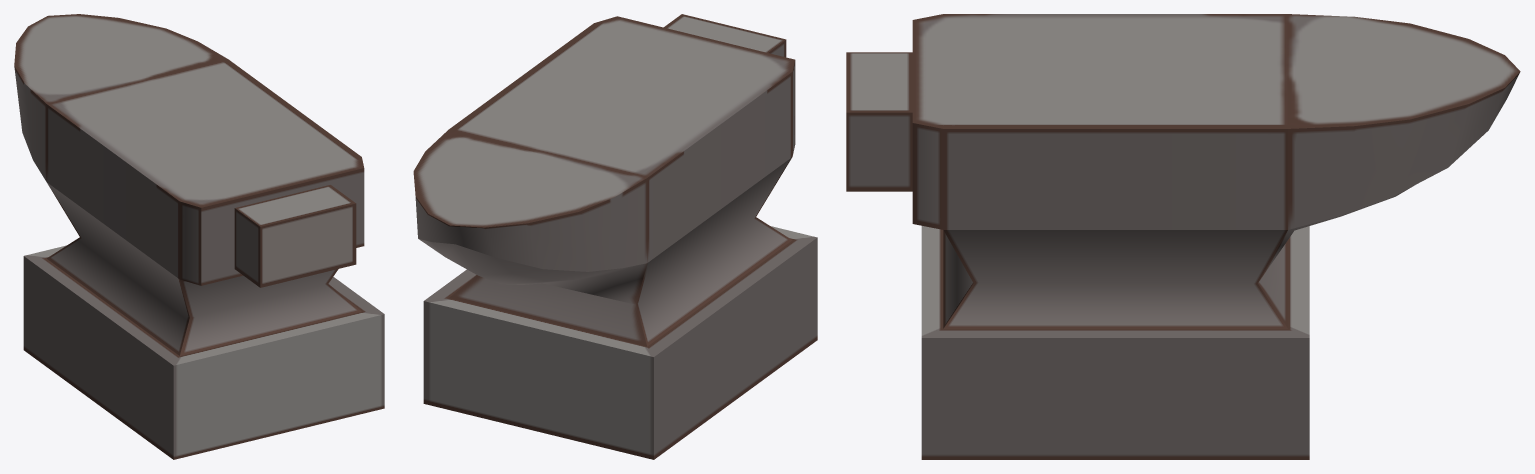
Rendered from Anvil.fbx.
The picture shows the model from 3 angles, left to right: view 1: azimuth 30°, elevation 25°; view 2: azimuth 150°, elevation 25°; view 3: azimuth 270°, elevation 25°; orthographic projection. The views are drawn at different scales.
Visible parts, largest first — view 1: Anvil; view 2: Anvil; view 3: Anvil.
Part boxes in pixels (x1=…): Anvil: x1=14, y1=14, x2=384, y2=459; Anvil: x1=413, y1=14, x2=817, y2=459; Anvil: x1=846, y1=14, x2=1520, y2=459.
Bounding box in the file's own units: 0.3647 × 0.4109 × 0.78.
1 material, 1 textured.
